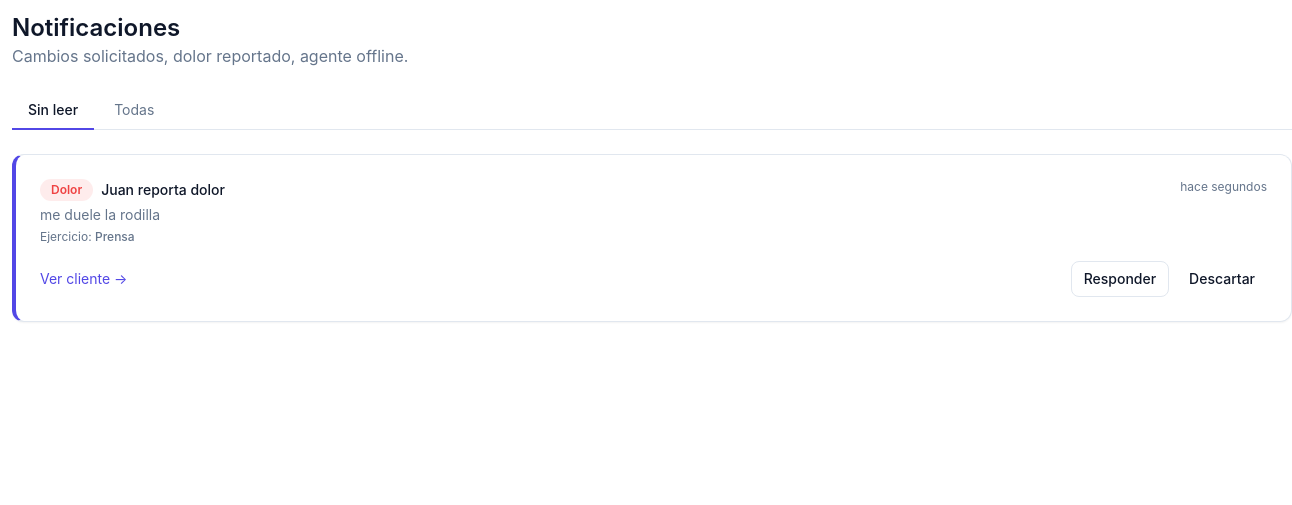
NotificationsPage › abre textarea al clickear Responder
Click the button "Responder": (1120,279) 1071,261 -> 1169,297
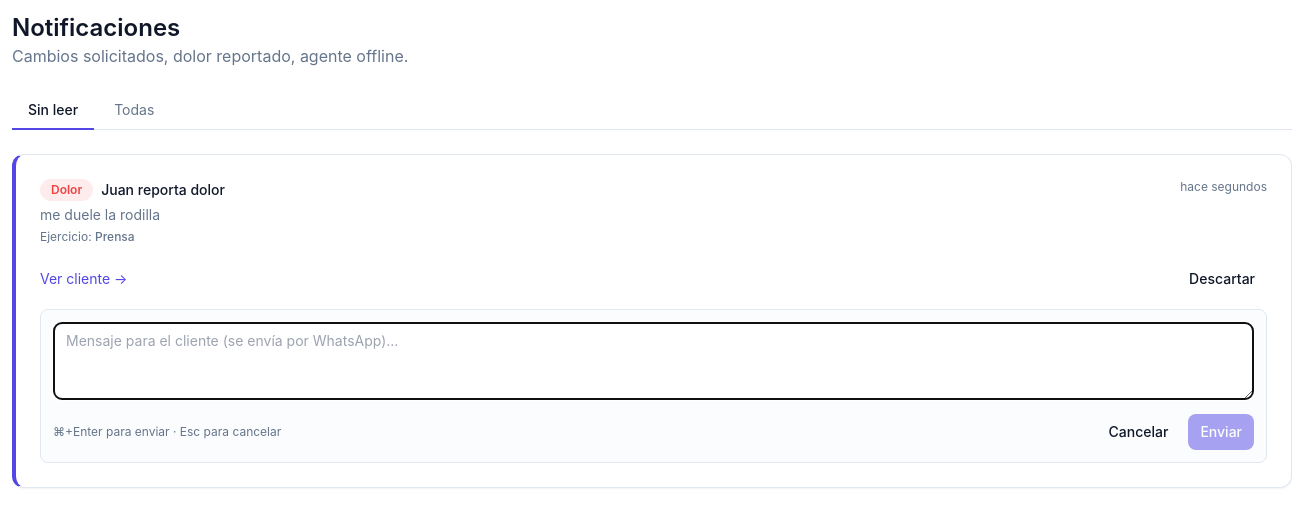
Expected: the text box with placeholder "Mensaje para el cliente (se envía por WhatsApp)..." is shown, 53,322 -> 1254,400
